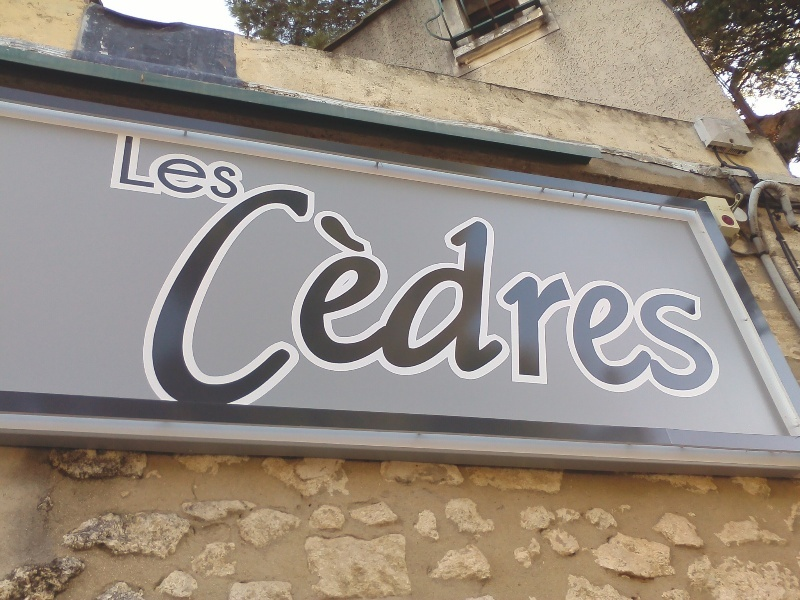text: (225, 177, 240, 422), (241, 177, 256, 422), (257, 177, 272, 422), (273, 177, 288, 422), (289, 177, 304, 422), (305, 177, 320, 422), (321, 177, 336, 422), (337, 177, 352, 422), (353, 177, 368, 422), (369, 177, 384, 422), (385, 177, 400, 422), (401, 177, 416, 422), (417, 177, 432, 422), (433, 177, 448, 422), (449, 177, 464, 422), (465, 177, 480, 422), (481, 177, 496, 422), (497, 177, 512, 422), (513, 177, 528, 422), (529, 177, 544, 422), (545, 177, 560, 422), (561, 177, 576, 422), (577, 177, 592, 422), (593, 177, 608, 422), (609, 177, 624, 422), (625, 177, 640, 422), (641, 177, 656, 422), (657, 177, 672, 422), (673, 177, 688, 422), (689, 177, 704, 422), (705, 177, 720, 422), (721, 177, 736, 422), (737, 177, 749, 422), (215, 177, 224, 422), (129, 133, 144, 207), (145, 133, 160, 207), (161, 133, 176, 207), (177, 133, 192, 207), (193, 133, 208, 207), (209, 133, 224, 207), (225, 133, 240, 207), (117, 133, 128, 207), (241, 133, 246, 207), (721, 204, 733, 213), (714, 204, 720, 213)
